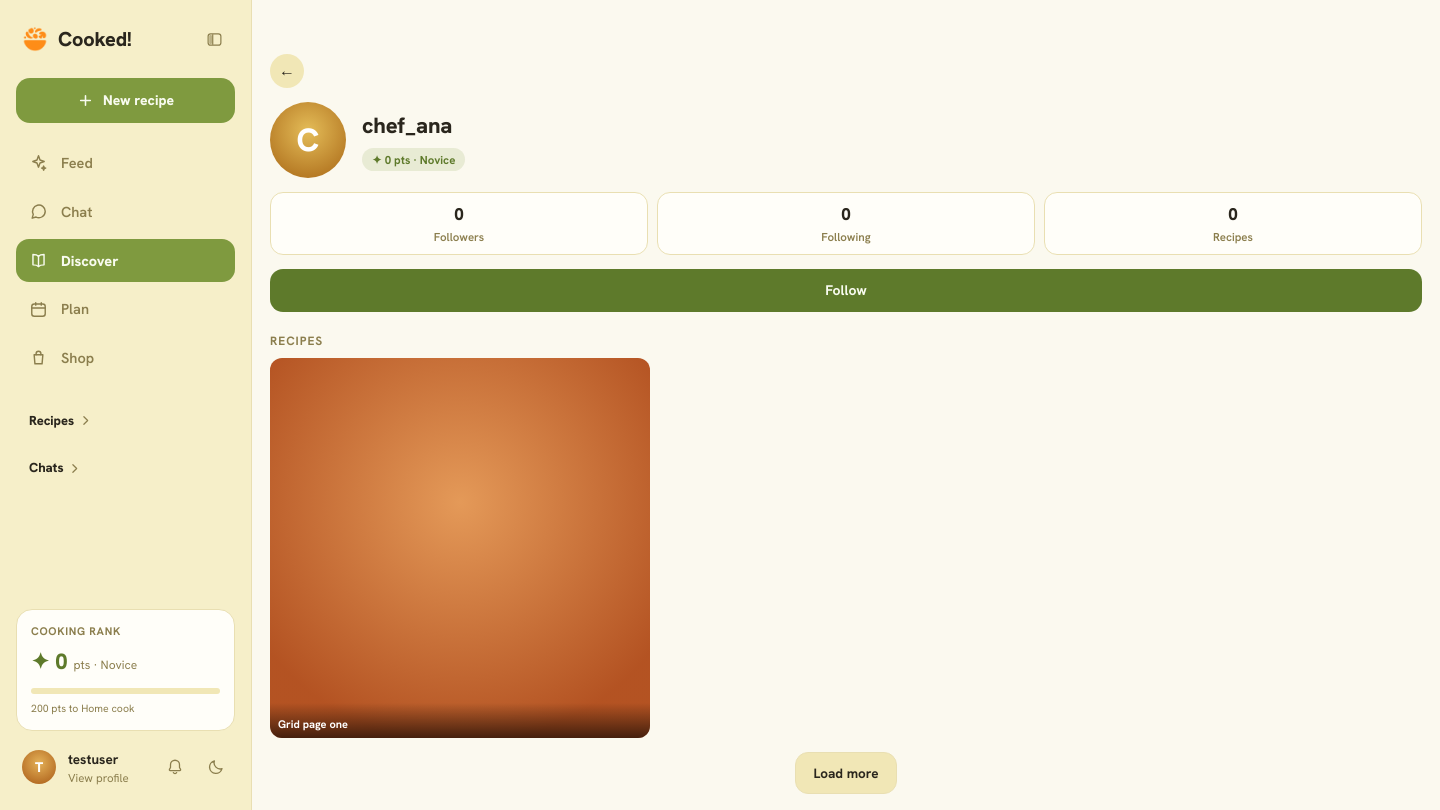
Test: UserProfilePage › walks the recipe grid keyset via Load more, passing nextCursor back verbatim
Expected: the link "Grid page one" is shown, [270, 358, 650, 738]
Click the button "Load more" at [846, 773], box [794, 752, 897, 794]
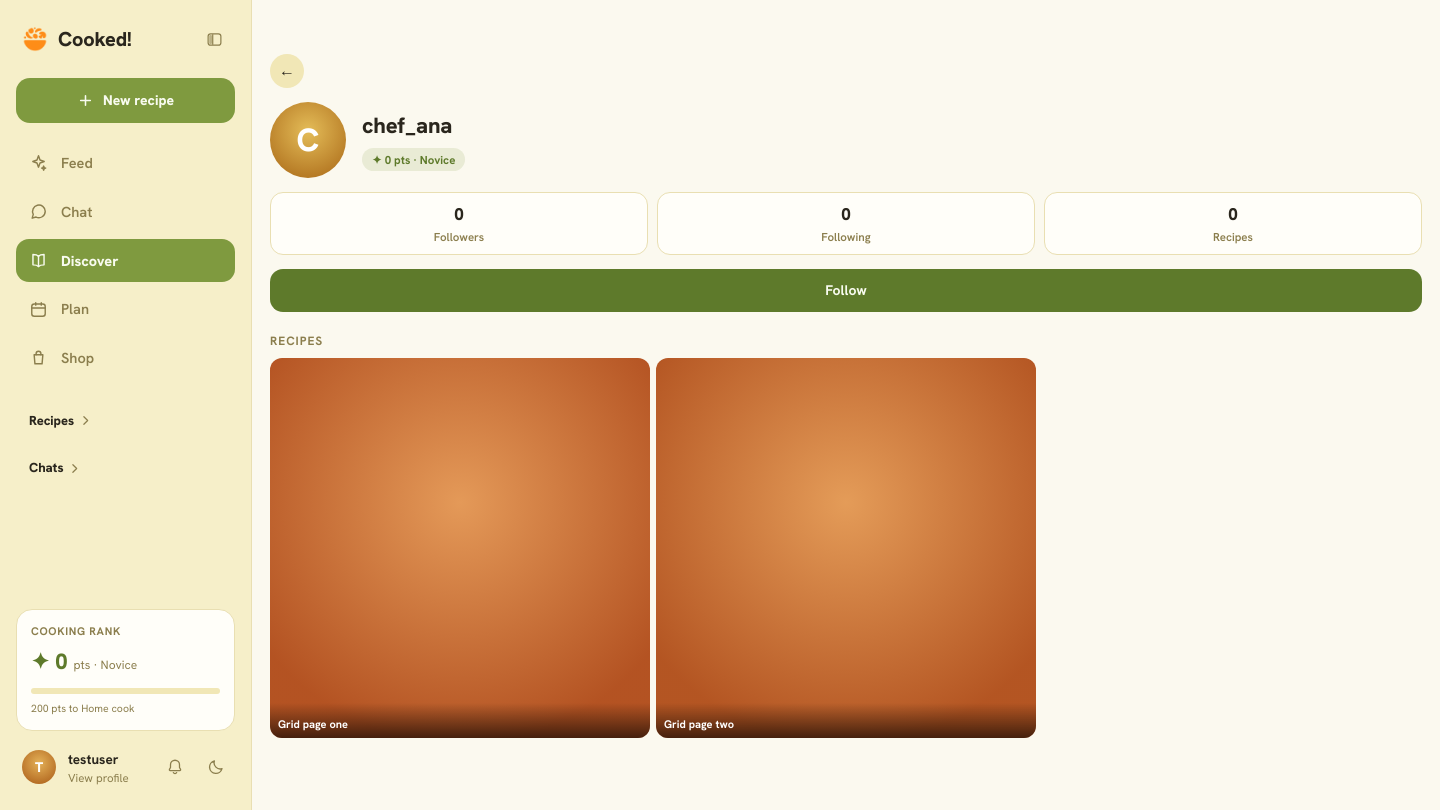
Expected: the number of links "Grid page one" is 1, [270, 358, 650, 738]
Expected: the link "Grid page two" is shown, [656, 358, 1036, 738]
